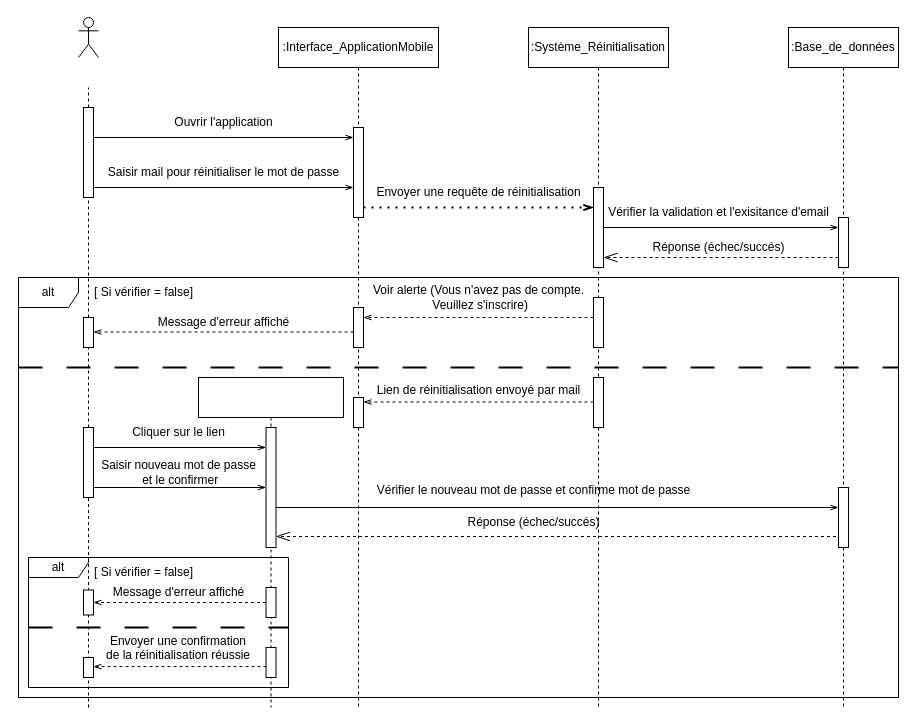
This 917x726 diagram has some shape labels left out. Here are the shapes that lost their labels. From the top down, the centre of each, then its label:
At pixel 88 37: "Utilisateur".
At pixel 271 542: ":Page_Browser_Firebase".
